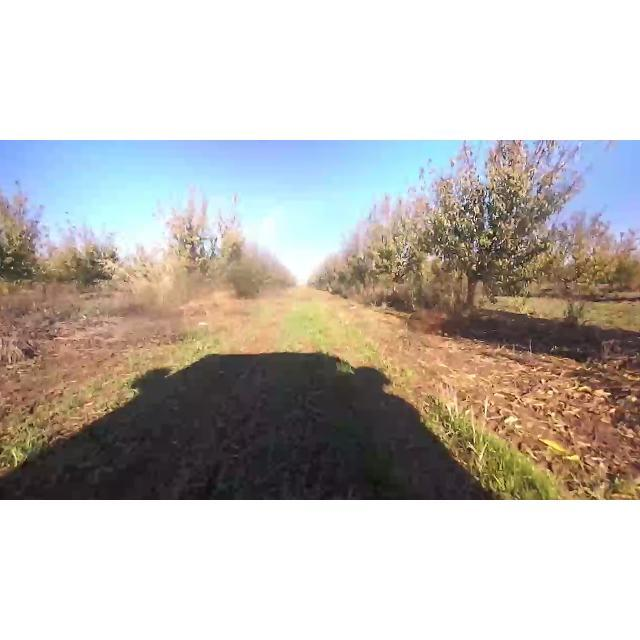direk: (398, 143, 598, 337), (144, 175, 248, 302), (0, 181, 50, 285)
